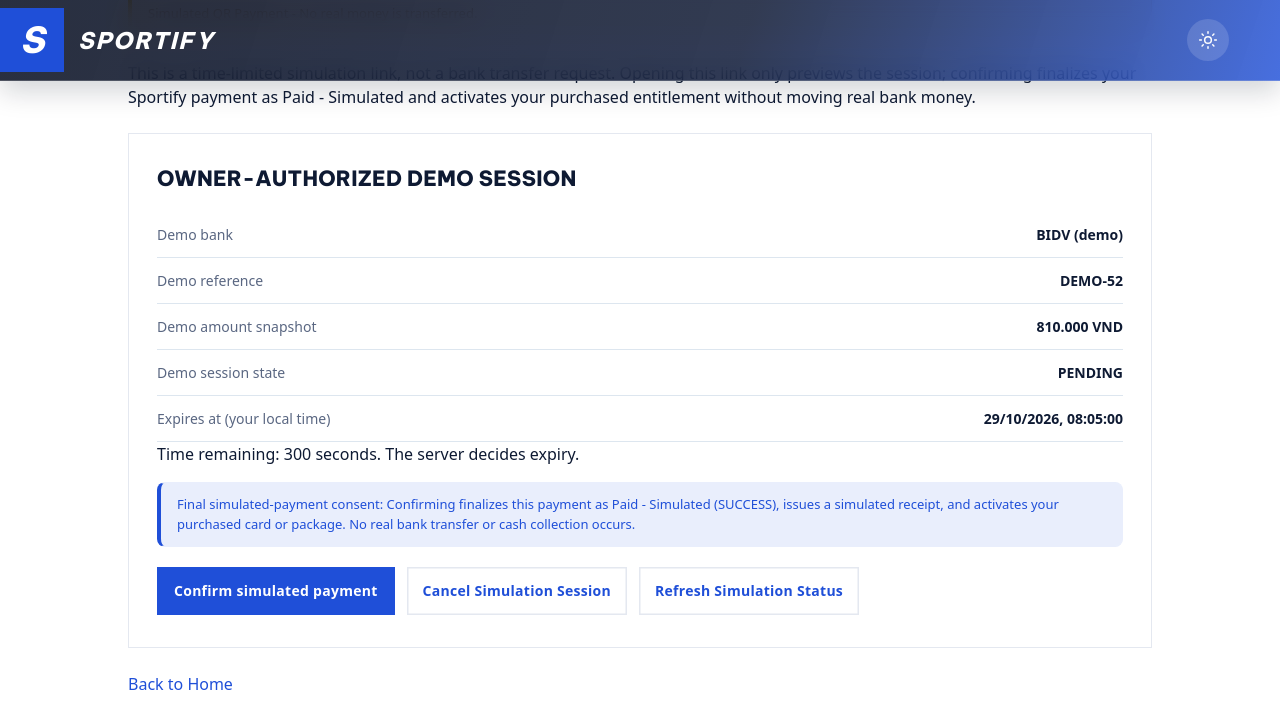
Test: QR-04 owner-authorized mobile confirmation › does not announce success after a confirm error and requires a fresh server read
(page scrolled)
Click the button "Confirm simulated payment". click: [276, 591]
box: [157,567,394,615]
(page scrolled)
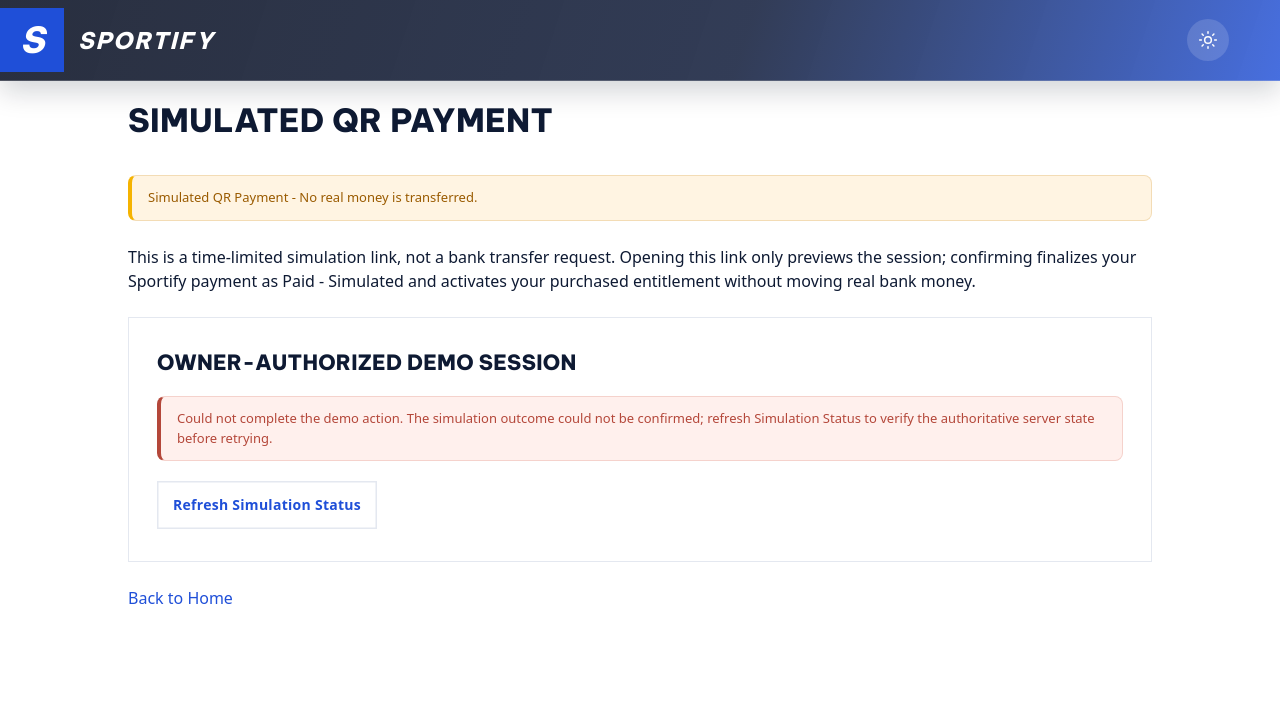
Expected: the message does not show "No simulated settlement was recorded", [157,396,1123,461]
Now the message shows "Could not complete the demo action. The simulation outcome could not be confirmed; refresh Simulation Status to verify the authoritative server state before re", box [177,409,1095,447]
Now the button "Confirm simulated payment" is gone
